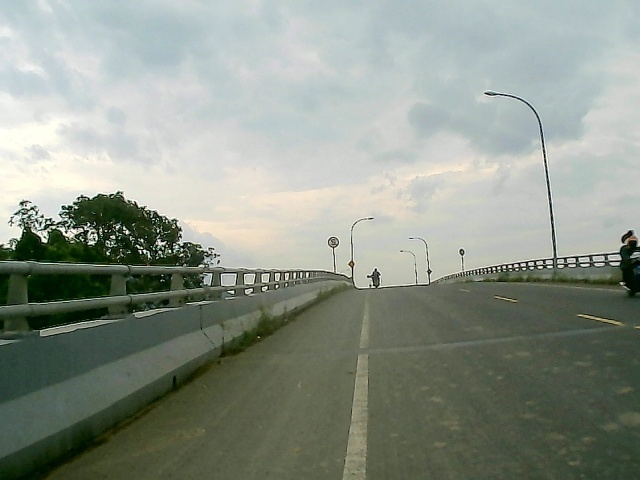Dilarang berhenti: (326, 234, 339, 251)
